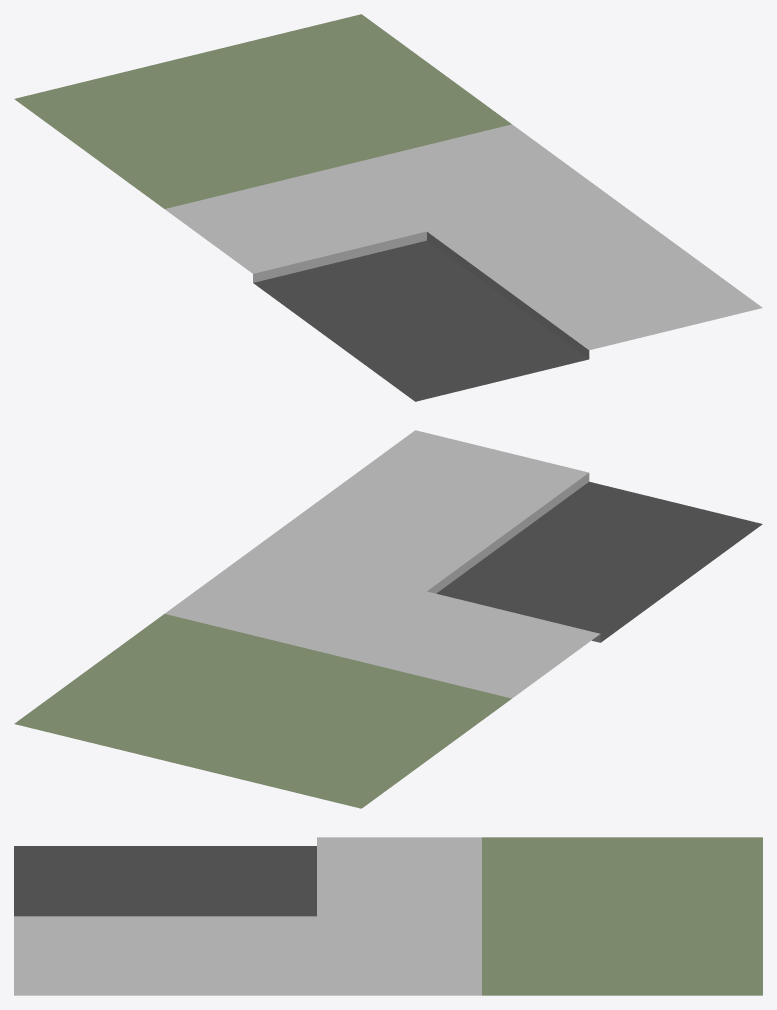
File: GroundRoad_RightCorner_Park.fbx
3 renders of one model, top to bottom at view 1: azimuth 30°, elevation 25°; view 2: azimuth 150°, elevation 25°; view 3: azimuth 270°, elevation 25°, orthographic. The views are drawn at different scales.
Visible parts, largest first — view 1: GroundRoad_RightCorner_Park; view 2: GroundRoad_RightCorner_Park; view 3: GroundRoad_RightCorner_Park.
Boxes of the visible parts, x1,y1,x2,y2 form: GroundRoad_RightCorner_Park: (14, 14, 762, 401); GroundRoad_RightCorner_Park: (14, 430, 762, 808); GroundRoad_RightCorner_Park: (14, 837, 762, 995).
Size of the model in its own units: 800 by 19.99 by 1600.
